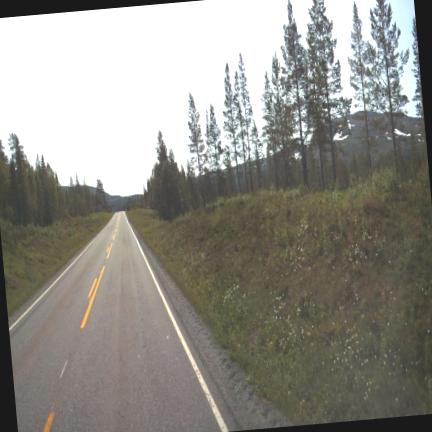Road: (9, 213, 235, 431)
